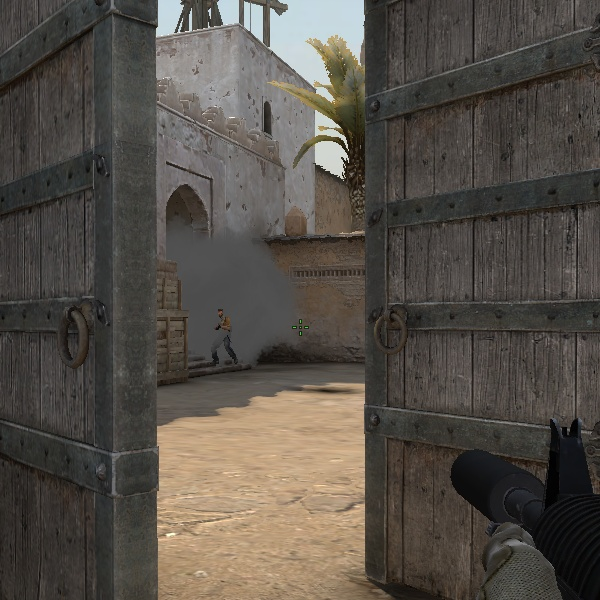t_body: (206, 304, 240, 365)
t_head: (217, 307, 228, 318)
